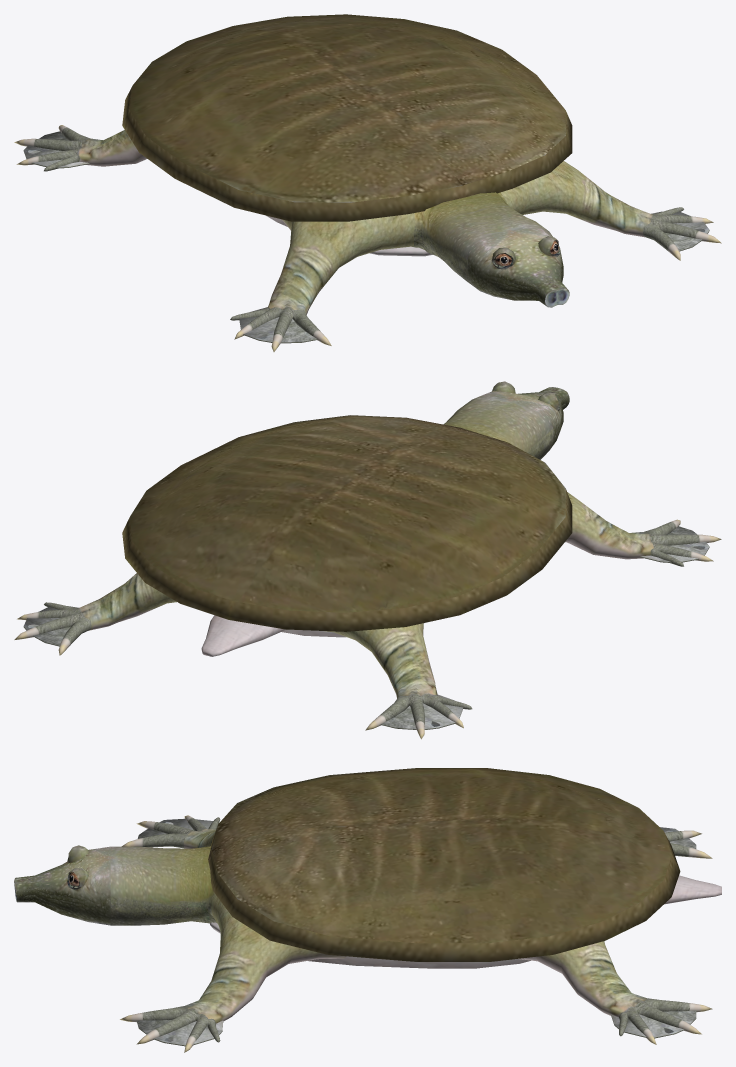
Rendered from trionix.fbx.
3 renders of one model, top to bottom at view 1: azimuth 30°, elevation 25°; view 2: azimuth 150°, elevation 25°; view 3: azimuth 270°, elevation 25°, orthographic.
Visible parts, largest first — view 1: Cube, Icosphere.001; view 2: Cube; view 3: Cube, Icosphere.001.
Part boxes in pixels (x1,y1,x2,y2): Cube: [14, 14, 721, 351]; Icosphere.001: [491, 236, 560, 269]; Cube: [14, 387, 721, 739]; Cube: [14, 768, 721, 1052]; Icosphere.001: [67, 845, 88, 889].
Bounding box in the file's own units: 381 × 87.46 × 482.
